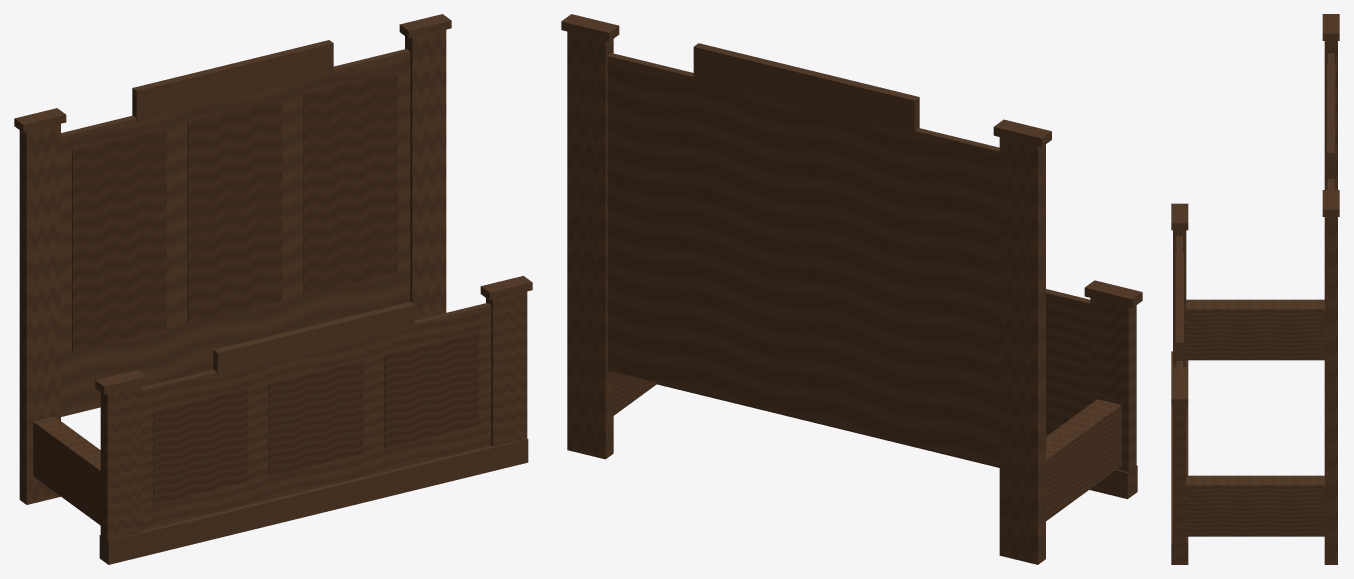
The picture shows the model from 3 angles, left to right: view 1: azimuth 30°, elevation 25°; view 2: azimuth 150°, elevation 25°; view 3: azimuth 270°, elevation 25°; orthographic projection. The views are drawn at different scales.
Parts seen in each view (by area): view 1: 5 headboard_main_panel, 15 footboard_main_panel, 8 headboard_panel_center, 7 headboard_panel_left, 9 headboard_panel_right, 1 headboard_left_post, 14 footboard_base, 2 headboard_right_post, 18 footboard_panel_center, 17 footboard_panel_left, 19 footboard_panel_right, 6 headboard_top_arch (+8 smaller); view 2: 5 headboard_main_panel, 1 headboard_left_post, 2 headboard_right_post, 6 headboard_top_arch, 20 left_side_rail, 10 footboard_left_post, 15 footboard_main_panel, 14 footboard_base, 21 right_side_rail, 12 footboard_left_cap, 4 headboard_right_cap, 3 headboard_left_cap; view 3: 20 left_side_rail, 21 right_side_rail, 2 headboard_right_post, 11 footboard_right_post, 6 headboard_top_arch, 1 headboard_left_post, 16 footboard_top_arch, 10 footboard_left_post, 14 footboard_base, 13 footboard_right_cap, 12 footboard_left_cap, 3 headboard_left_cap (+2 smaller).
Boxes of the visible parts, x1=… form: 5 headboard_main_panel: x1=61, y1=48, x2=410, y2=416; 15 footboard_main_panel: x1=142, y1=303, x2=491, y2=530; 8 headboard_panel_center: x1=187, y1=98, x2=282, y2=323; 7 headboard_panel_left: x1=72, y1=126, x2=166, y2=352; 9 headboard_panel_right: x1=303, y1=70, x2=397, y2=295; 1 headboard_left_post: x1=19, y1=123, x2=60, y2=504; 14 footboard_base: x1=99, y1=438, x2=528, y2=564; 2 headboard_right_post: x1=405, y1=30, x2=446, y2=320; 18 footboard_panel_center: x1=268, y1=360, x2=363, y2=476; 17 footboard_panel_left: x1=153, y1=388, x2=247, y2=504; 19 footboard_panel_right: x1=384, y1=332, x2=478, y2=448; 6 headboard_top_arch: x1=132, y1=40, x2=333, y2=122; 5 headboard_main_panel: x1=607, y1=53, x2=999, y2=465; 1 headboard_left_post: x1=999, y1=137, x2=1045, y2=564; 2 headboard_right_post: x1=567, y1=31, x2=613, y2=459; 6 headboard_top_arch: x1=693, y1=43, x2=919, y2=135; 20 left_side_rail: x1=1046, y1=399, x2=1121, y2=520; 10 footboard_left_post: x1=1090, y1=298, x2=1136, y2=497; 15 footboard_main_panel: x1=1046, y1=289, x2=1090, y2=436; 14 footboard_base: x1=657, y1=383, x2=1137, y2=499; 21 right_side_rail: x1=613, y1=372, x2=657, y2=415; 12 footboard_left_cap: x1=1084, y1=280, x2=1142, y2=307; 4 headboard_right_cap: x1=561, y1=14, x2=619, y2=41; 3 headboard_left_cap: x1=993, y1=119, x2=1051, y2=147; 20 left_side_rail: x1=1186, y1=299, x2=1324, y2=360; 21 right_side_rail: x1=1186, y1=475, x2=1324, y2=536; 2 headboard_right_post: x1=1324, y1=217, x2=1337, y2=564; 11 footboard_right_post: x1=1173, y1=406, x2=1186, y2=564; 6 headboard_top_arch: x1=1327, y1=63, x2=1335, y2=182; 1 headboard_left_post: x1=1324, y1=41, x2=1337, y2=189; 16 footboard_top_arch: x1=1175, y1=252, x2=1183, y2=364; 10 footboard_left_post: x1=1173, y1=230, x2=1186, y2=366; 14 footboard_base: x1=1171, y1=351, x2=1188, y2=564; 13 footboard_right_cap: x1=1171, y1=379, x2=1188, y2=406; 12 footboard_left_cap: x1=1171, y1=203, x2=1188, y2=230; 3 headboard_left_cap: x1=1322, y1=14, x2=1339, y2=40.
Bounding box in the file's own units: 2.1 × 1.8 × 0.762.
2 materials, 2 textured.
